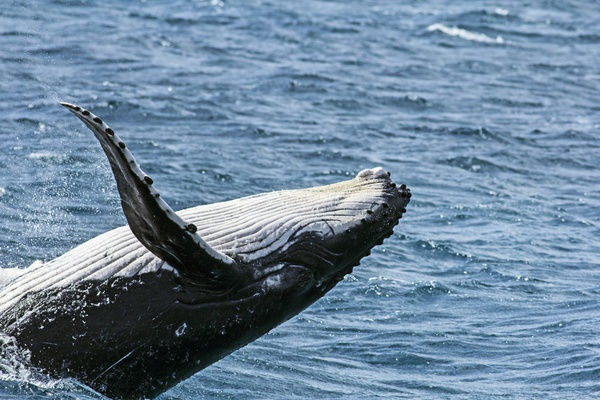humpback: (7, 163, 410, 397)
